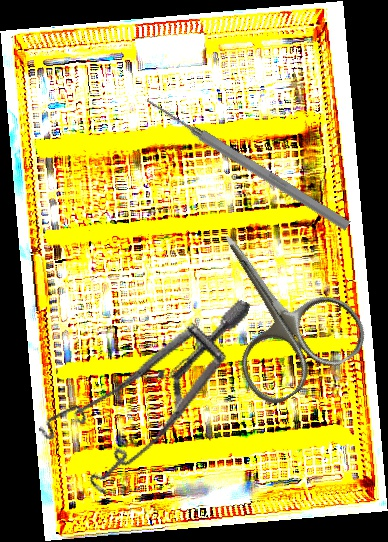Iris Scissors: (174, 200, 375, 413)
Pusher: (142, 93, 353, 233)
Speculum: (25, 249, 252, 519)
